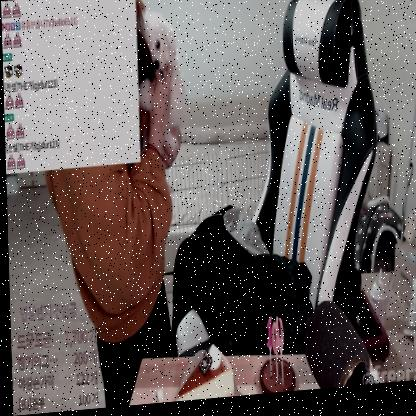streamer: (37, 0, 186, 413)
